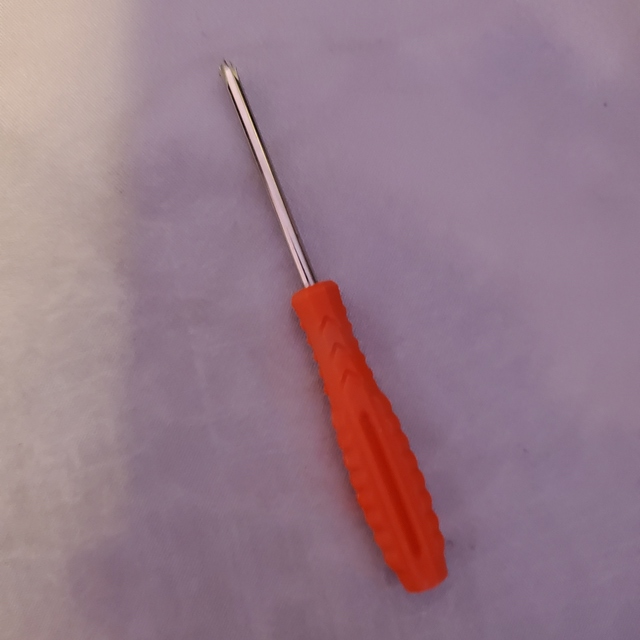screwdriver: (214, 40, 458, 599)
